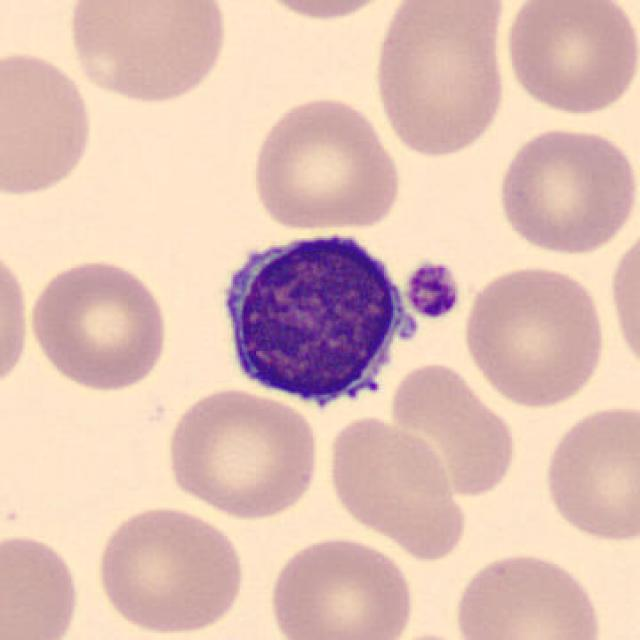Lymphocyte: (208, 218, 427, 418)
Platelets: (404, 259, 464, 319)
RBC: (368, 0, 512, 162), (458, 261, 610, 411), (247, 92, 404, 235), (162, 384, 322, 522), (91, 501, 249, 636), (322, 411, 468, 557), (25, 254, 172, 393), (492, 121, 638, 258), (384, 358, 521, 501), (62, 0, 231, 108), (265, 532, 418, 640), (502, 0, 638, 118), (0, 44, 98, 201), (449, 546, 606, 640), (539, 400, 638, 545), (0, 529, 84, 640), (606, 220, 640, 378), (0, 240, 30, 395), (242, 0, 409, 23)
